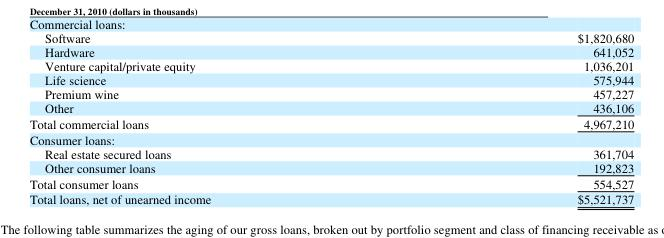table: (28, 28, 633, 206)
table column: (28, 28, 393, 206), (393, 28, 633, 206)
table projected row header: (28, 130, 633, 145)
table row: (28, 28, 633, 44), (28, 114, 633, 130), (28, 174, 633, 190), (28, 190, 633, 206), (28, 99, 633, 114), (28, 130, 633, 145), (28, 159, 633, 174), (28, 57, 633, 71), (28, 71, 633, 85), (28, 85, 633, 99), (28, 145, 633, 159), (28, 44, 633, 57)
